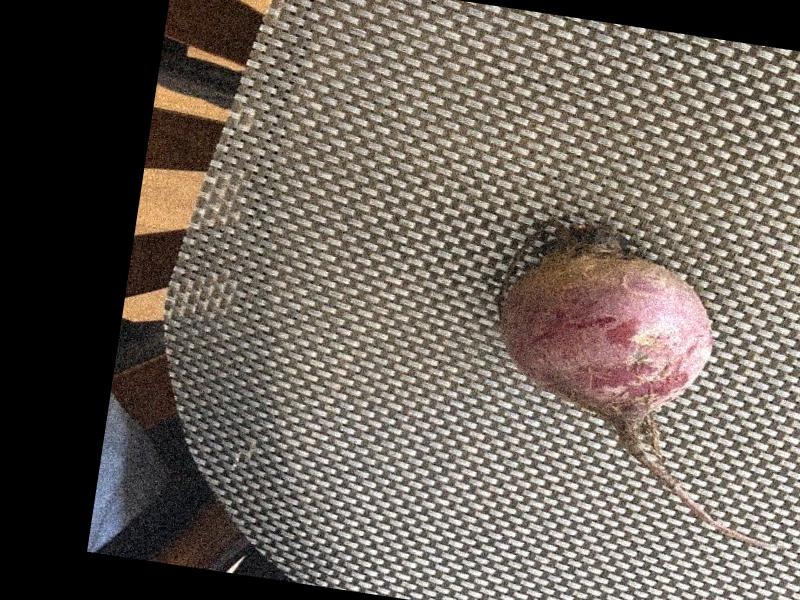Beet: (470, 210, 800, 551)
